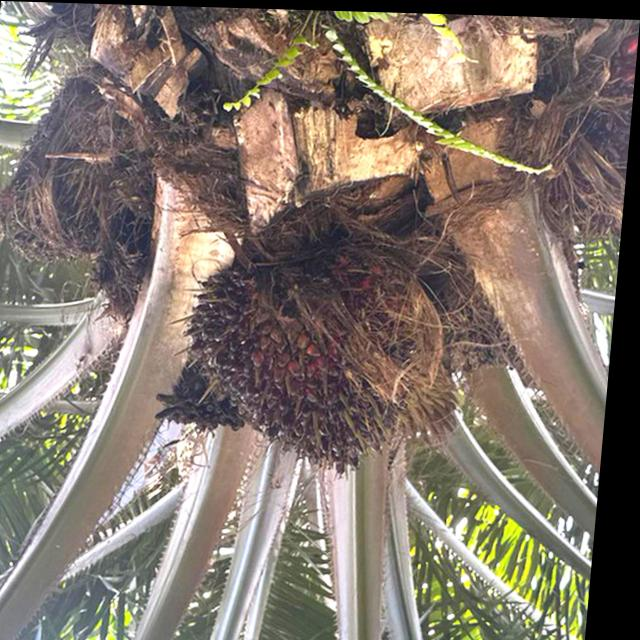ripe: (153, 223, 472, 486)
